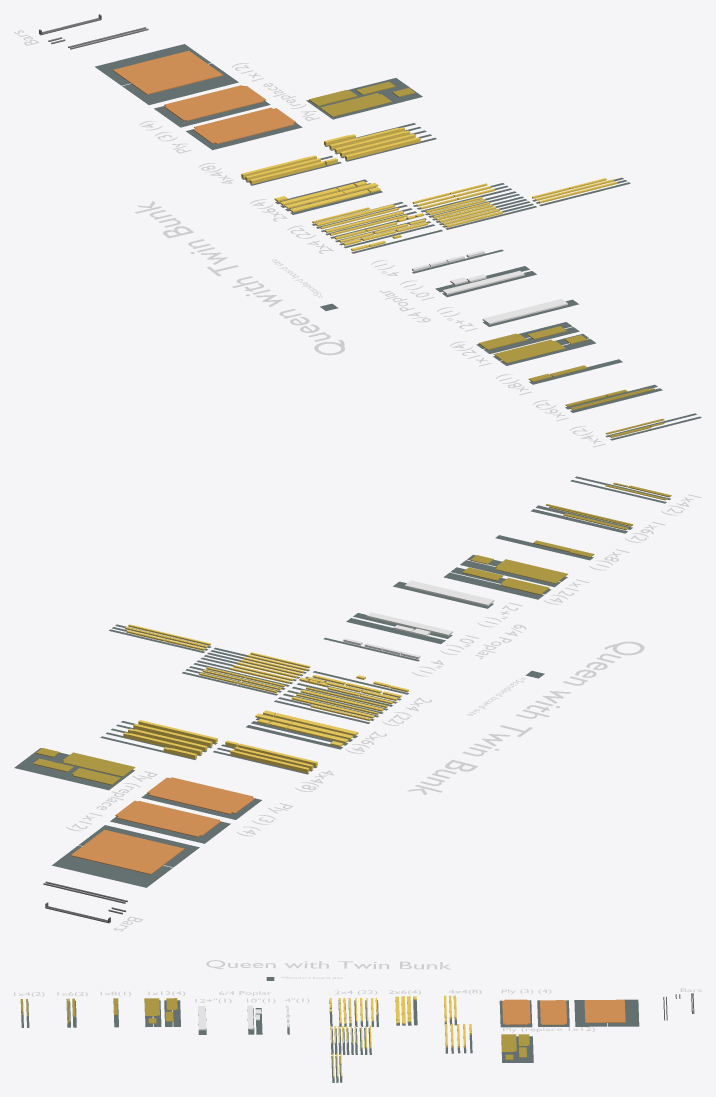
File: bunks-wood-bunk-queen.glb
3 views of the same model, one above another, from view 1: azimuth 30°, elevation 25°; view 2: azimuth 150°, elevation 25°; view 3: azimuth 270°, elevation 25° (orthographic). The views are drawn at different scales.
Parts seen in each view (by area): view 1: queen-platform, twin-bottom-platform, twin-platform, Text.012, Plane.200, Plane.201, Plane.215, queen-molding-head-front, queen-molding-head-front.001, Plane.199, queen-rail-right; view 2: queen-platform, twin-bottom-platform, twin-platform, Text.012, Plane.201, Plane.215, queen-molding-head-front, queen-molding-head-front.001, Plane.200, Plane.199, queen-rail-right; view 3: queen-platform, twin-bottom-platform, Text.012, twin-platform, Plane.201, Plane.215, Plane.200, queen-molding-head-front.001, queen-molding-head-front, Plane.199, Plane.198.
Boxes of the visible parts, x1=… form: queen-platform: x1=112, y1=50, x2=223, y2=94; twin-bottom-platform: x1=192, y1=107, x2=296, y2=144; twin-platform: x1=164, y1=85, x2=265, y2=120; Text.012: x1=135, y1=201, x2=344, y2=355; Plane.200: x1=122, y1=63, x2=238, y2=104; Plane.201: x1=95, y1=44, x2=210, y2=85; Plane.215: x1=306, y1=78, x2=422, y2=119; queen-molding-head-front: x1=493, y1=339, x2=565, y2=363; queen-molding-head-front.001: x1=320, y1=93, x2=391, y2=116; Plane.199: x1=154, y1=86, x2=270, y2=127; queen-rail-right: x1=482, y1=299, x2=567, y2=324; queen-platform: x1=70, y1=829, x2=184, y2=874; twin-bottom-platform: x1=147, y1=777, x2=254, y2=814; twin-platform: x1=115, y1=800, x2=220, y2=837; Text.012: x1=407, y1=641, x2=644, y2=794; Plane.201: x1=52, y1=845, x2=172, y2=887; Plane.215: x1=14, y1=748, x2=134, y2=790; queen-molding-head-front: x1=495, y1=559, x2=567, y2=583; queen-molding-head-front.001: x1=62, y1=752, x2=135, y2=776; Plane.200: x1=79, y1=825, x2=199, y2=867; Plane.199: x1=110, y1=816, x2=230, y2=843; queen-rail-right: x1=404, y1=580, x2=494, y2=606; queen-platform: x1=584, y1=999, x2=625, y2=1022; twin-bottom-platform: x1=502, y1=999, x2=530, y2=1024; Text.012: x1=206, y1=960, x2=450, y2=969; twin-platform: x1=540, y1=1000, x2=566, y2=1024; Plane.201: x1=607, y1=999, x2=639, y2=1026; Plane.215: x1=501, y1=1036, x2=533, y2=1062; Plane.200: x1=574, y1=1000, x2=606, y2=1026; queen-molding-head-front.001: x1=501, y1=1034, x2=516, y2=1052; queen-molding-head-front: x1=144, y1=998, x2=159, y2=1016; Plane.199: x1=537, y1=1000, x2=569, y2=1026; Plane.198: x1=499, y1=1000, x2=532, y2=1027.
Bounding box in the file's own units: 11.01 × 0.1493 × 26.48.
